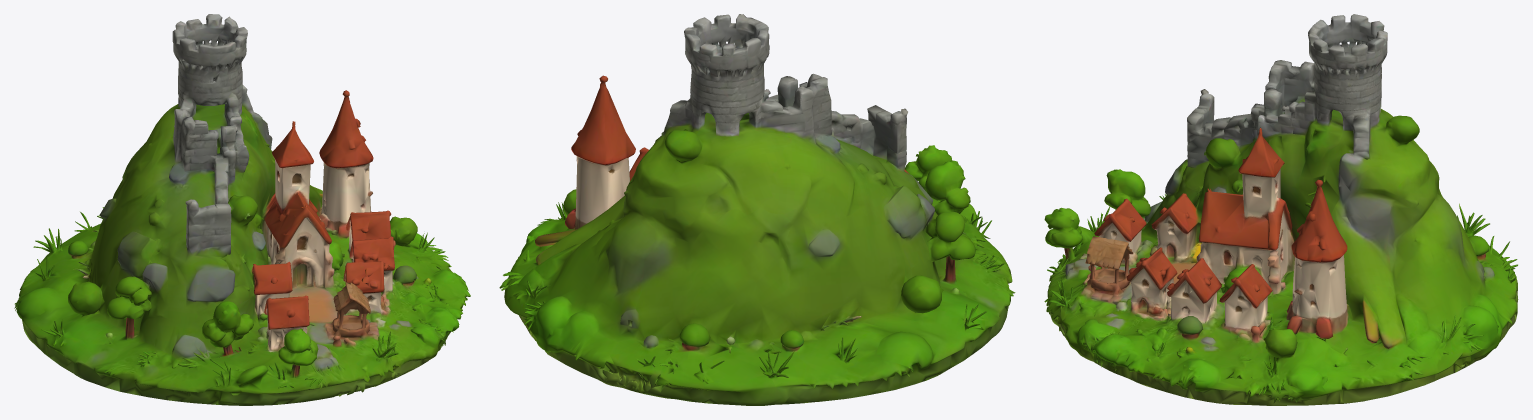
The model's file is kazimierz-dolny.glb.
The picture shows the model from 3 angles, left to right: view 1: azimuth 30°, elevation 25°; view 2: azimuth 150°, elevation 25°; view 3: azimuth 270°, elevation 25°; orthographic projection. The views are drawn at different scales.
Visible parts, largest first — view 1: tripo_node_c98b3741-288f-4d0d-bab5-af10f28b822b; view 2: tripo_node_c98b3741-288f-4d0d-bab5-af10f28b822b; view 3: tripo_node_c98b3741-288f-4d0d-bab5-af10f28b822b.
Boxes of the visible parts, <box> form: tripo_node_c98b3741-288f-4d0d-bab5-af10f28b822b: <box>14,14,470,405</box>; tripo_node_c98b3741-288f-4d0d-bab5-af10f28b822b: <box>499,14,1015,405</box>; tripo_node_c98b3741-288f-4d0d-bab5-af10f28b822b: <box>1044,14,1518,405</box>.
Bounding box in the file's own units: 0.9857 × 0.629 × 0.9633.
1 material, 1 textured.
